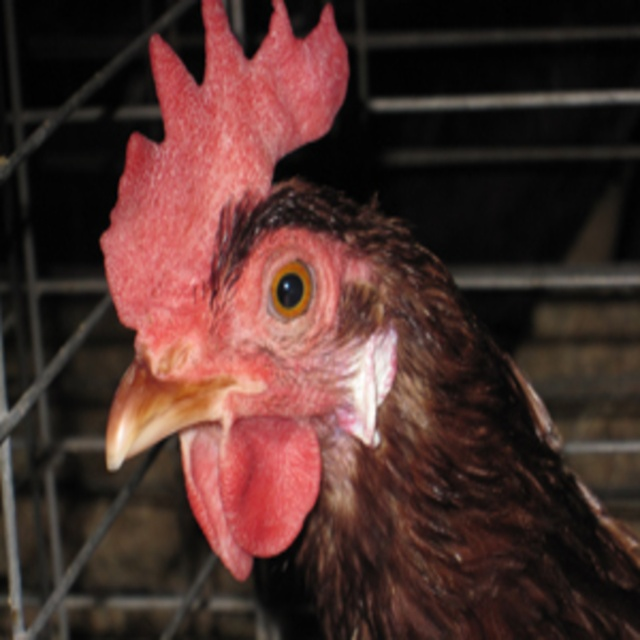Chicken: (99, 0, 640, 640)
